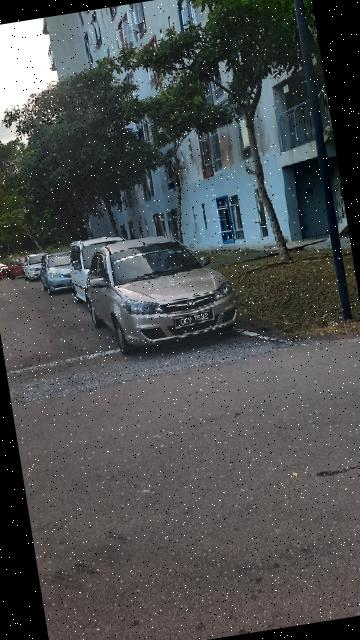License_Plate: (165, 309, 220, 331)
car: (81, 228, 247, 358)
